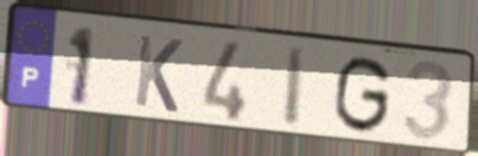1: (65, 24, 97, 110)
3: (400, 59, 461, 146)
4: (200, 38, 250, 125)
G: (330, 54, 395, 137)
I: (280, 45, 311, 131)
K: (131, 31, 186, 116)
